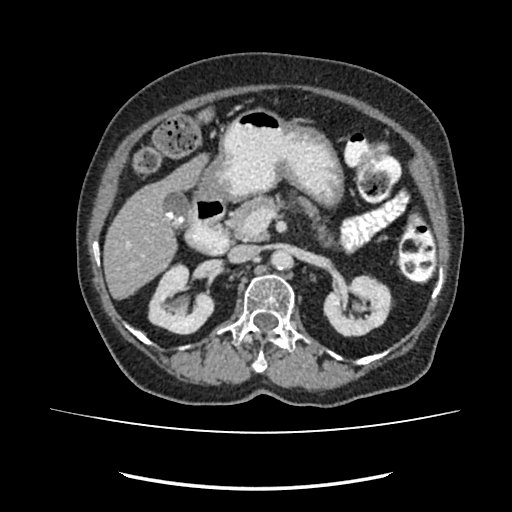aorta: (266, 245, 296, 274)
